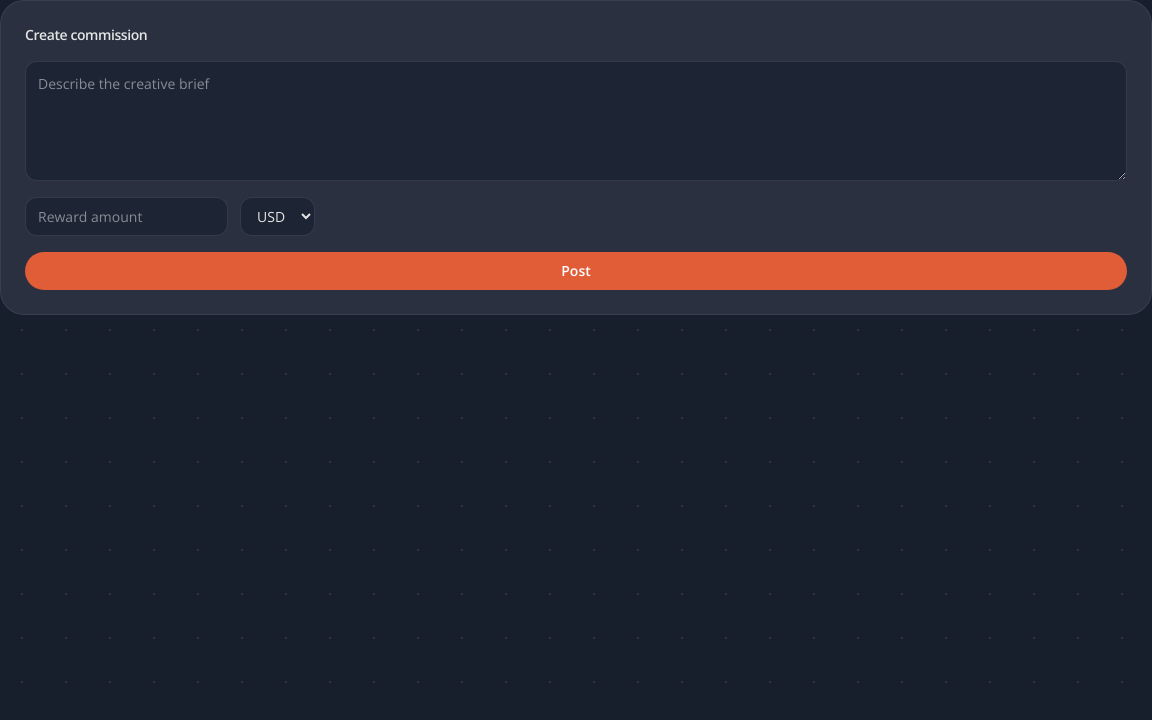
Test: CommissionForm › shows API error messages
The width and height of the screenshot is (1152, 720).
Type "Need a brand guide" into the text box with placeholder "Describe the creative brief". click: (576, 121)
box: [25,61,1127,181]
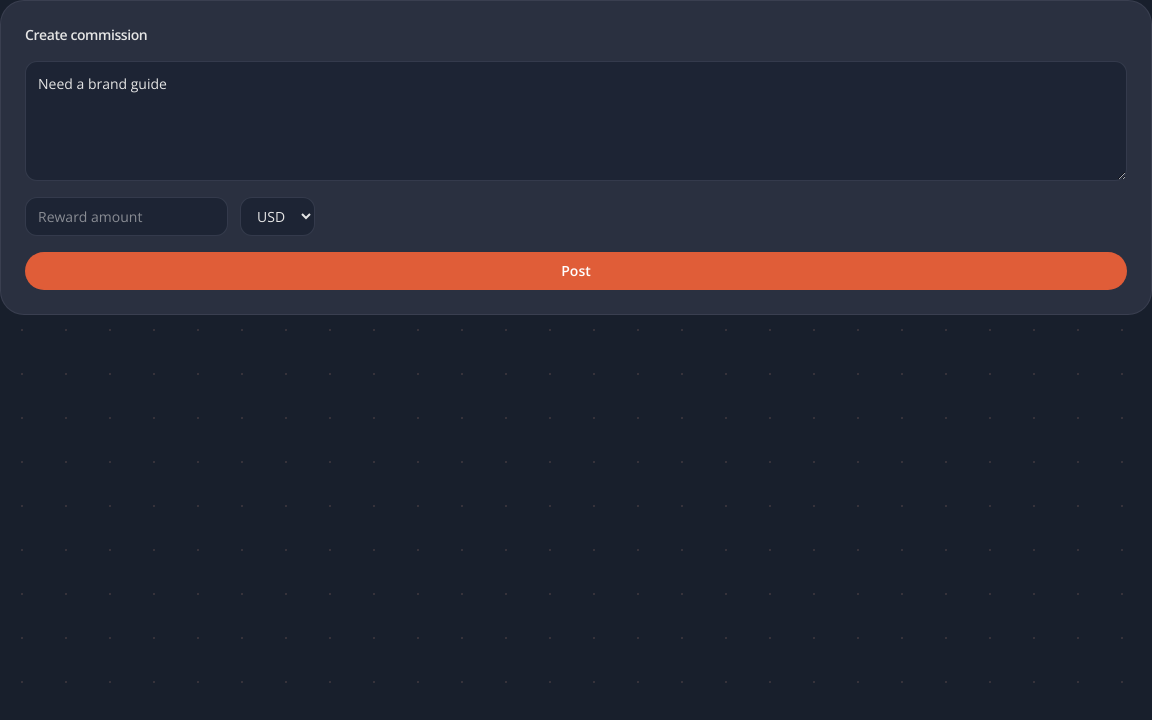
Click the button "Post". click: (576, 271)
box: [25,252,1127,290]
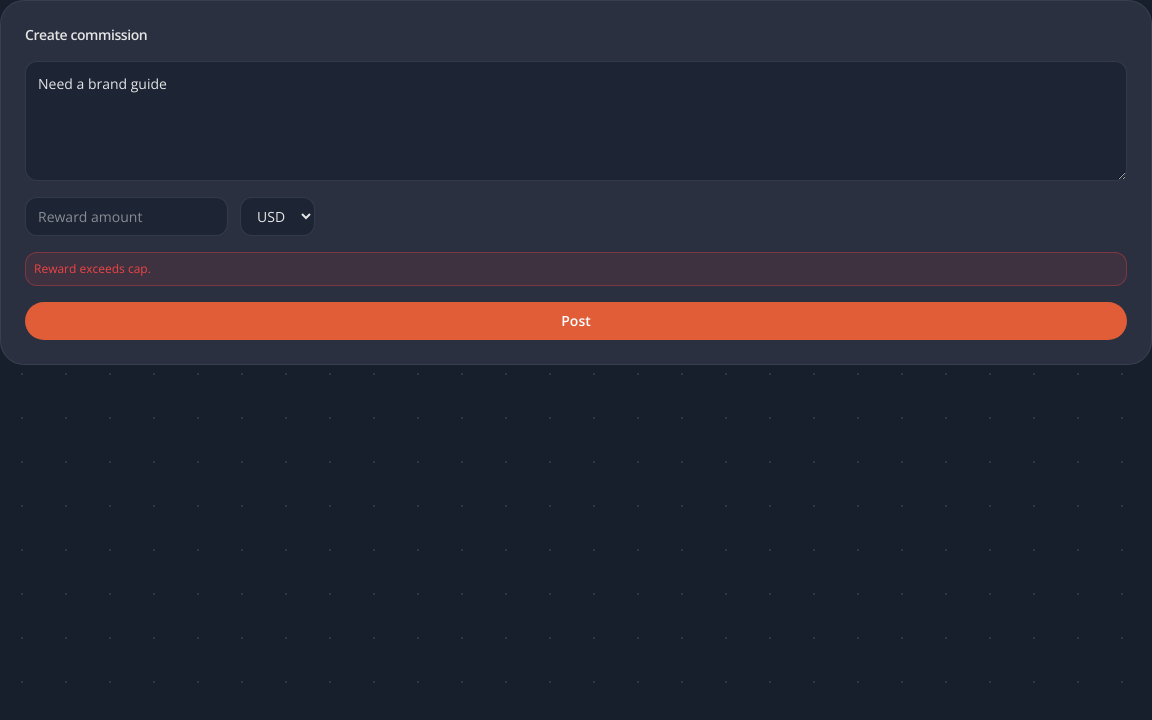
Result: the text "Reward exceeds cap." is shown at [25,252,1127,286]
